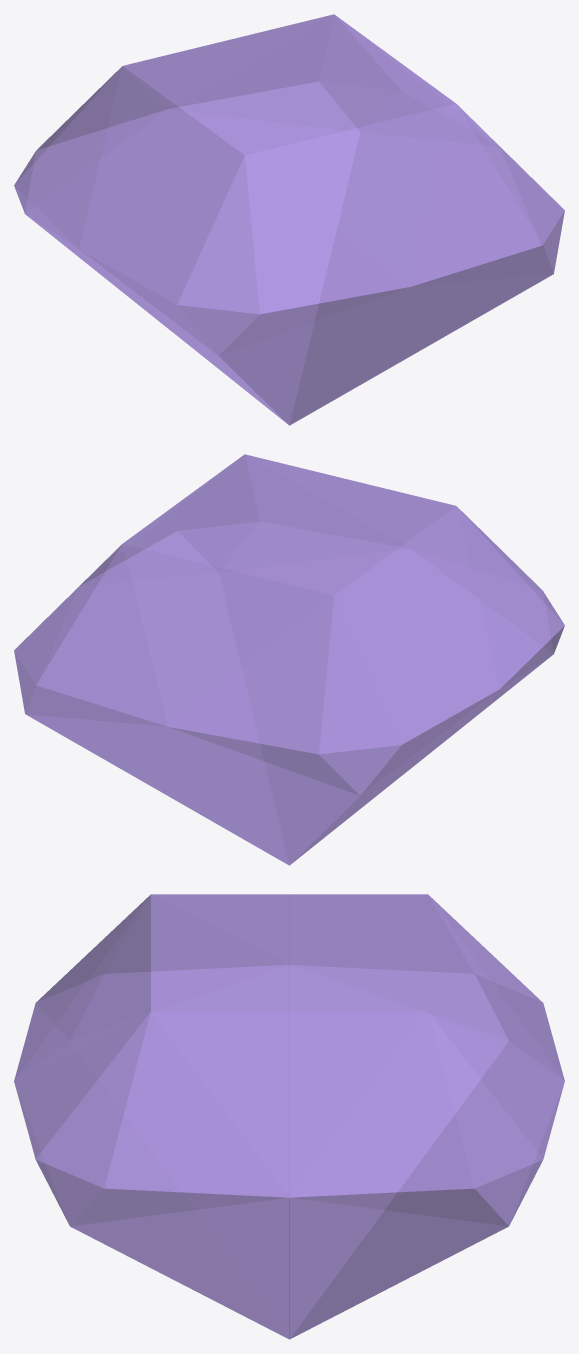
File: Gem_New_03.fbx
3 renders of one model, top to bottom at view 1: azimuth 30°, elevation 25°; view 2: azimuth 150°, elevation 25°; view 3: azimuth 270°, elevation 25°, orthographic. The views are drawn at different scales.
Visible parts, largest first — view 1: Model; view 2: Model; view 3: Model.
Boxes of the visible parts, bbox=[...] form: Model: bbox=[14, 14, 564, 425]; Model: bbox=[14, 454, 564, 865]; Model: bbox=[14, 894, 564, 1339].
Size of the model in its own units: 73.14 by 56.64 by 73.14.
